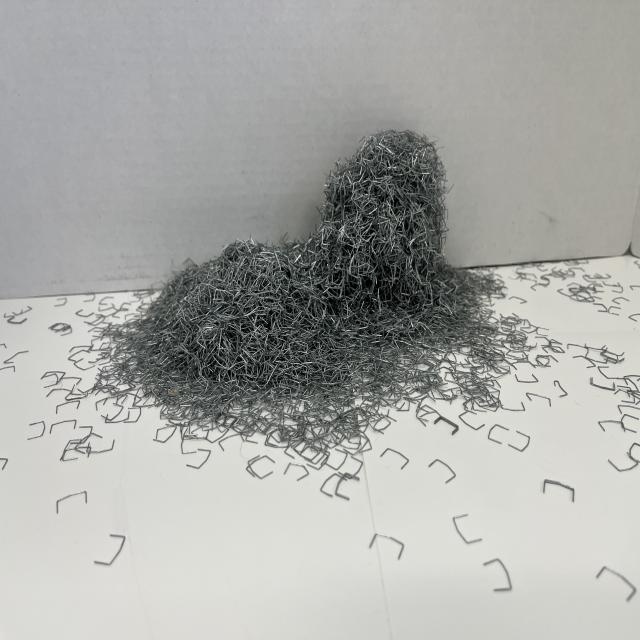staples: (99, 126, 510, 455)
